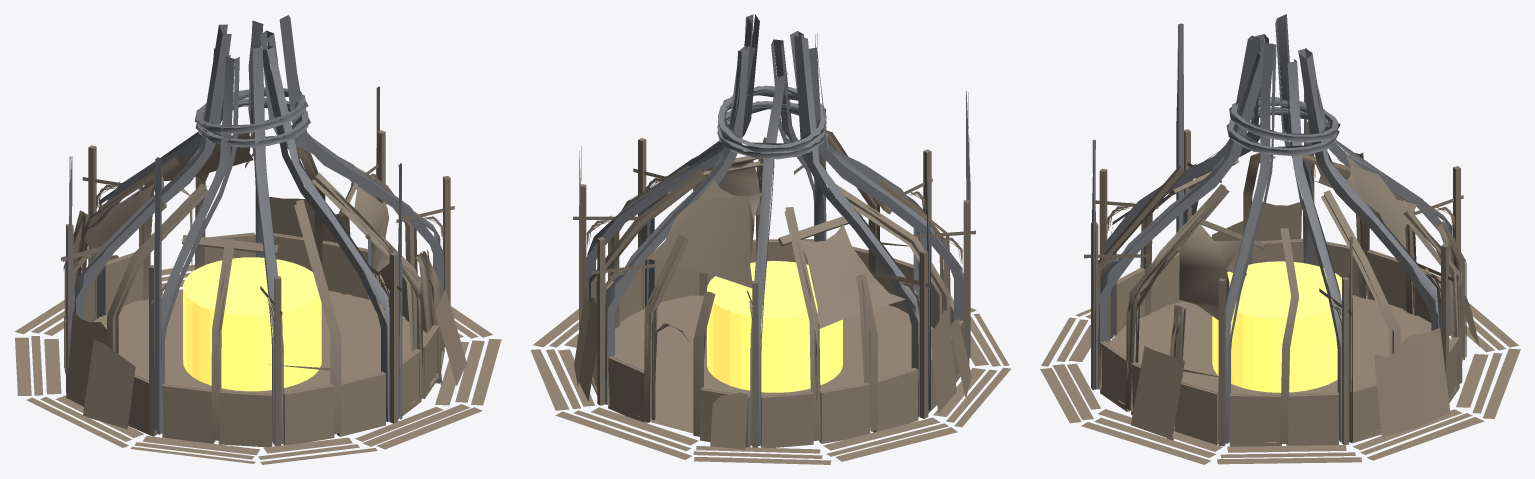
The model's file is fighting_arena.glb.
The picture shows the model from 3 angles, left to right: view 1: azimuth 30°, elevation 25°; view 2: azimuth 150°, elevation 25°; view 3: azimuth 270°, elevation 25°; orthographic projection. The views are drawn at different scales.
Visible parts, largest first — view 1: fighting_arena_Building; view 2: fighting_arena_Building; view 3: fighting_arena_Building.
Boxes of the visible parts, bbox=[...] form: fighting_arena_Building: bbox=[15, 14, 501, 464]; fighting_arena_Building: bbox=[530, 14, 1010, 464]; fighting_arena_Building: bbox=[1040, 14, 1520, 464].
Size of the model in its own units: 10.5 by 8.46 by 10.6.
